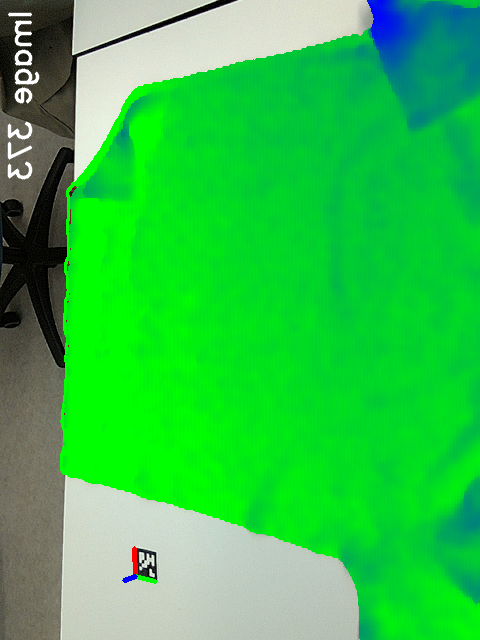V: (396, 81, 447, 137), (106, 168, 146, 206)
